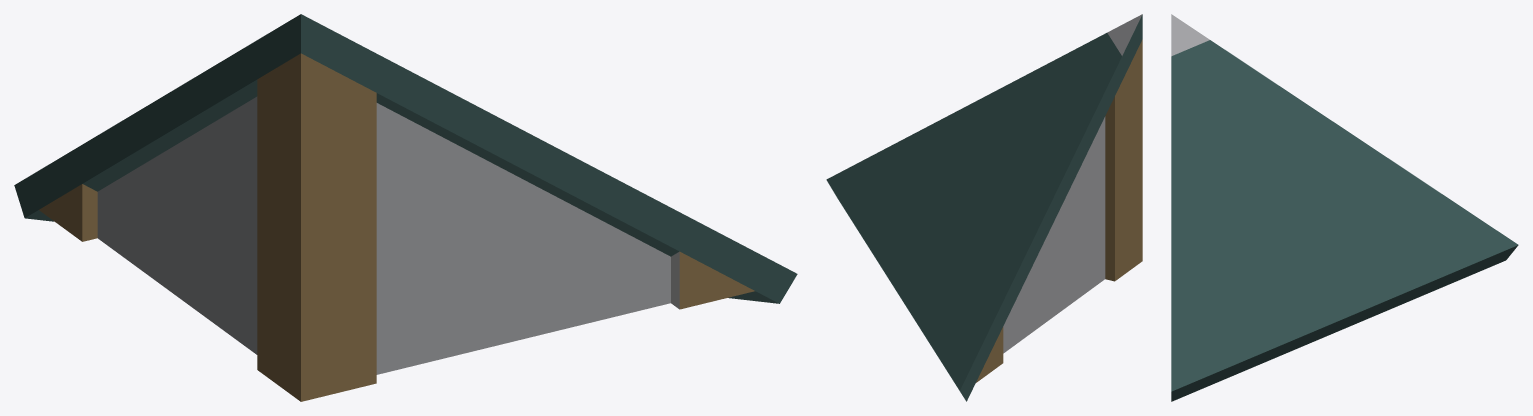
File: Roof_Corner_Green_01.obj
3 renders of one model, left to right at view 1: azimuth 30°, elevation 25°; view 2: azimuth 150°, elevation 25°; view 3: azimuth 270°, elevation 25°, orthographic. The views are drawn at different scales.
Parts seen in each view (by area): view 1: Mesh1_Roof_Corner_Green_Model; view 2: Mesh1_Roof_Corner_Green_Model; view 3: Mesh1_Roof_Corner_Green_Model.
Boxes of the visible parts, x1,y1,x2,y2 form: Mesh1_Roof_Corner_Green_Model: (14, 14, 797, 401); Mesh1_Roof_Corner_Green_Model: (826, 14, 1142, 401); Mesh1_Roof_Corner_Green_Model: (1171, 14, 1518, 401).
Size of the model in its own units: 3.28 by 2.57 by 3.28.
